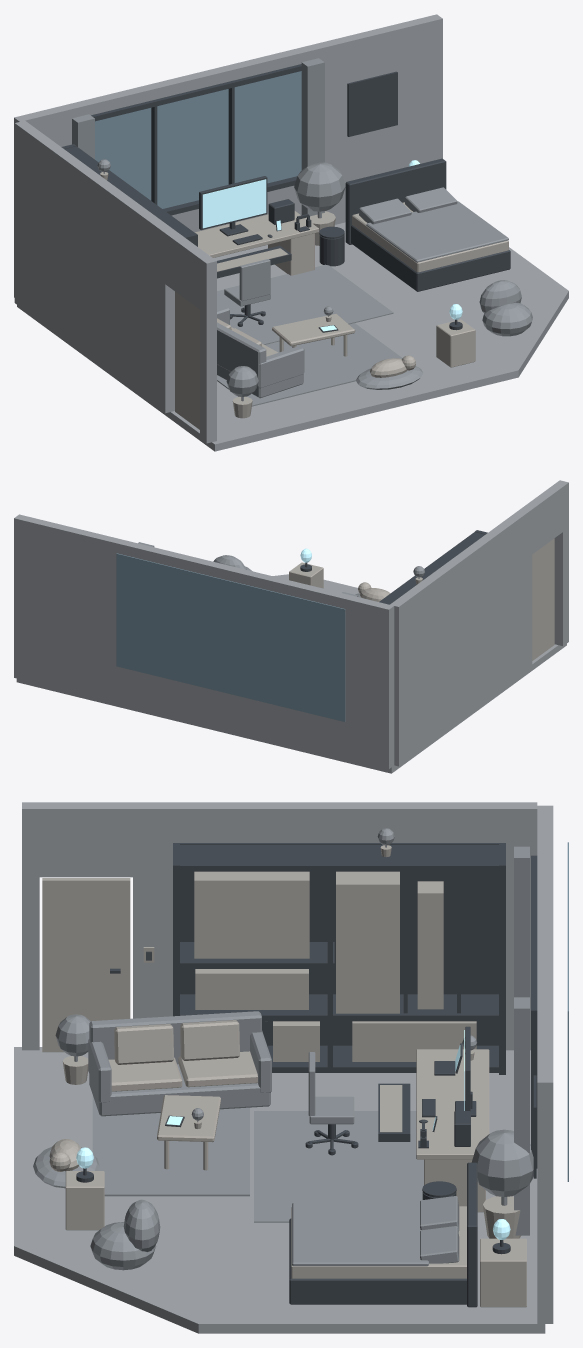
Rendered from sharkys_room_blockout_v02.glb.
The picture shows the model from 3 angles, top to bottom: view 1: azimuth 30°, elevation 25°; view 2: azimuth 150°, elevation 25°; view 3: azimuth 270°, elevation 25°; orthographic projection. The views are drawn at different scales.
Visible parts, largest first — view 1: ENV_Wall_Left, ENV_Floor, ENV_Wall_Right, ENV_WindowGlass, FUR_Bed, DEC_Rug_Workstation, DEC_Rug_Lounge, FUR_Sofa, FUR_Desk, ENV_WindowFrame, ENV_Door, DEC_WallArt (+15 smaller); view 2: ENV_Wall_Right, ENV_Wall_Left, ENV_CityBackground, ENV_Floor, ENV_Door, FUR_DisplayCabinet, FUR_SideTable, DEC_DogBedProxy; view 3: ENV_Floor, ENV_Wall_Left, FUR_DisplayCabinet, FUR_Bed, FUR_Sofa, DEC_Rug_Workstation, ENV_Door, DEC_Rug_Lounge, DSP_Castle_Bounds, DSP_EiffelTower_Bounds, ENV_Wall_Right, FUR_Desk (+18 smaller).
Part boxes in pixels (x1,y1,x2,y2): ENV_Wall_Left: (14,120,216,443); ENV_Floor: (17,222,568,451); ENV_Wall_Right: (14,14,442,297); ENV_WindowGlass: (95,71,301,208); FUR_Bed: (345,158,510,291); DEC_Rug_Workstation: (217,264,393,344); DEC_Rug_Lounge: (217,323,402,406); FUR_Sofa: (217,306,304,398); FUR_Desk: (195,211,318,275); ENV_WindowFrame: (91,64,301,215); ENV_Door: (175,291,199,429); DEC_WallArt: (347,71,397,136); ENV_Wall_Right: (14,514,394,769); ENV_Wall_Left: (390,480,568,766); ENV_CityBackground: (116,553,345,721); ENV_Floor: (16,574,566,773); ENV_Door: (532,538,554,660); FUR_DisplayCabinet: (379,530,487,604); FUR_SideTable: (289,562,323,588); DEC_DogBedProxy: (355,582,390,601); ENV_Floor: (14,1047,545,1333); ENV_Wall_Left: (22,802,537,1050); FUR_DisplayCabinet: (173,843,505,1074); FUR_Bed: (289,1162,477,1307); FUR_Sofa: (88,1011,271,1116); DEC_Rug_Workstation: (254,1111,423,1222); ENV_Door: (42,878,130,1052); DEC_Rug_Lounge: (92,1095,249,1196); DSP_Castle_Bounds: (194,871,309,958); DSP_EiffelTower_Bounds: (336,871,399,1013); ENV_Wall_Right: (537,805,553,1323); FUR_Desk: (416,1049,489,1212).
Size of the model in its own units: 7.47 by 3.12 by 6.25.
